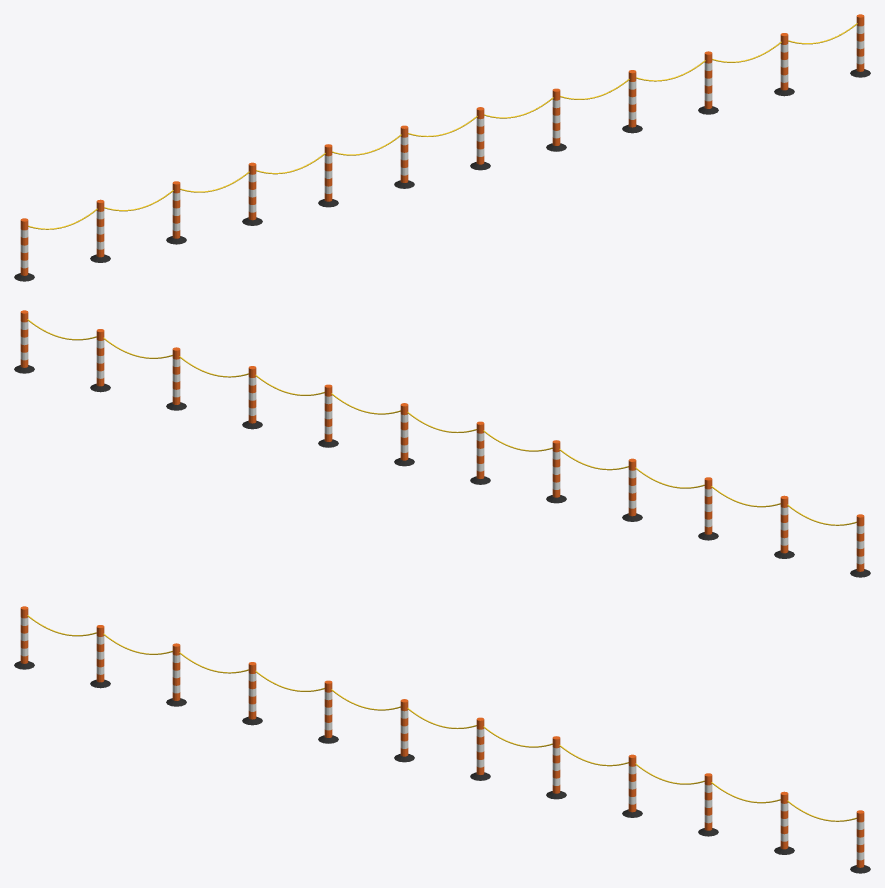
Rendered from bollards12.glb.
3 renders of one model, top to bottom at view 1: azimuth 30°, elevation 25°; view 2: azimuth 150°, elevation 25°; view 3: azimuth 330°, elevation 25°, orthographic.
Size of the model in its own units: 16.86 by 1.08 by 0.36.
